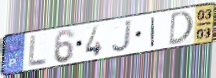4: (84, 24, 105, 58)
6: (53, 28, 77, 65)
D: (168, 9, 195, 48)
I: (149, 16, 157, 48)
J: (111, 18, 134, 54)
L: (27, 34, 48, 68)
